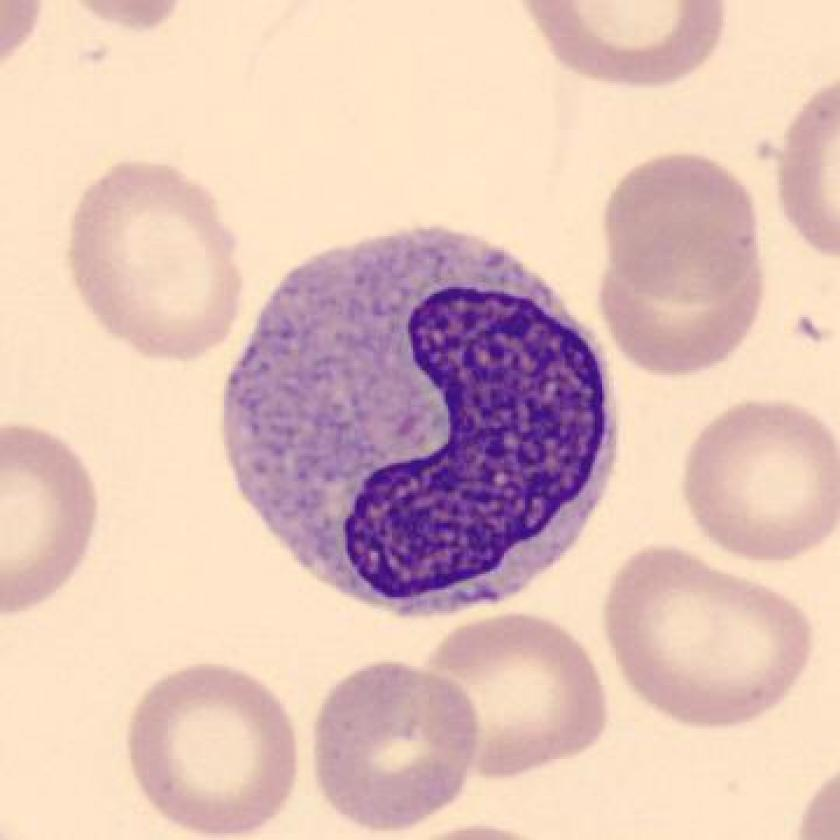monocyte: (206, 207, 636, 635)
